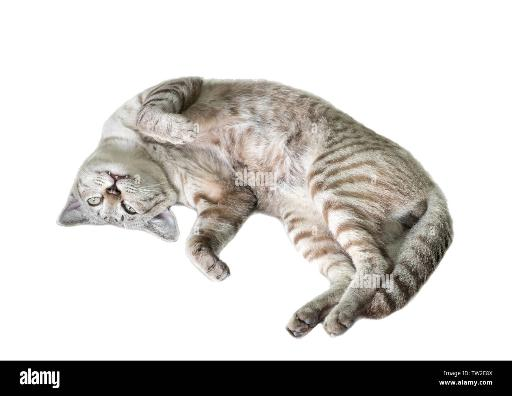cat_sleeping: (58, 77, 453, 338)
